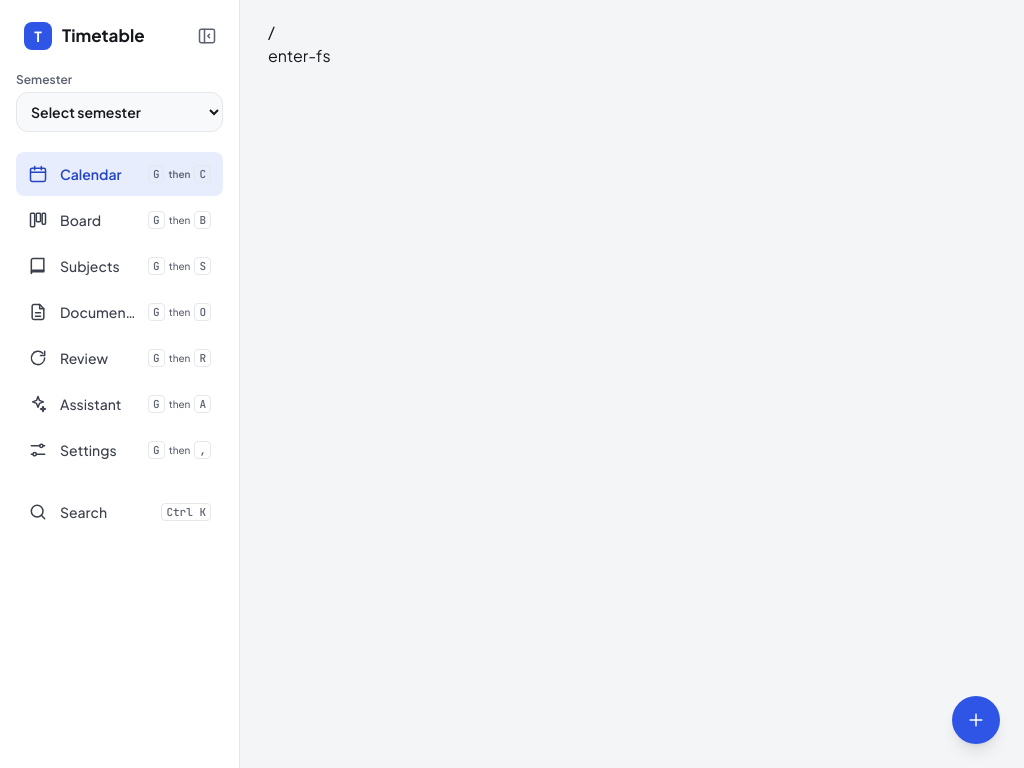
Test: Layout shortcuts › the sidebar stays in place while the page scrolls and its toggle sits at the top
Click the button named "Collapse sidebar".
click(207, 36)  # box x1=191 y1=20 x2=223 y2=52
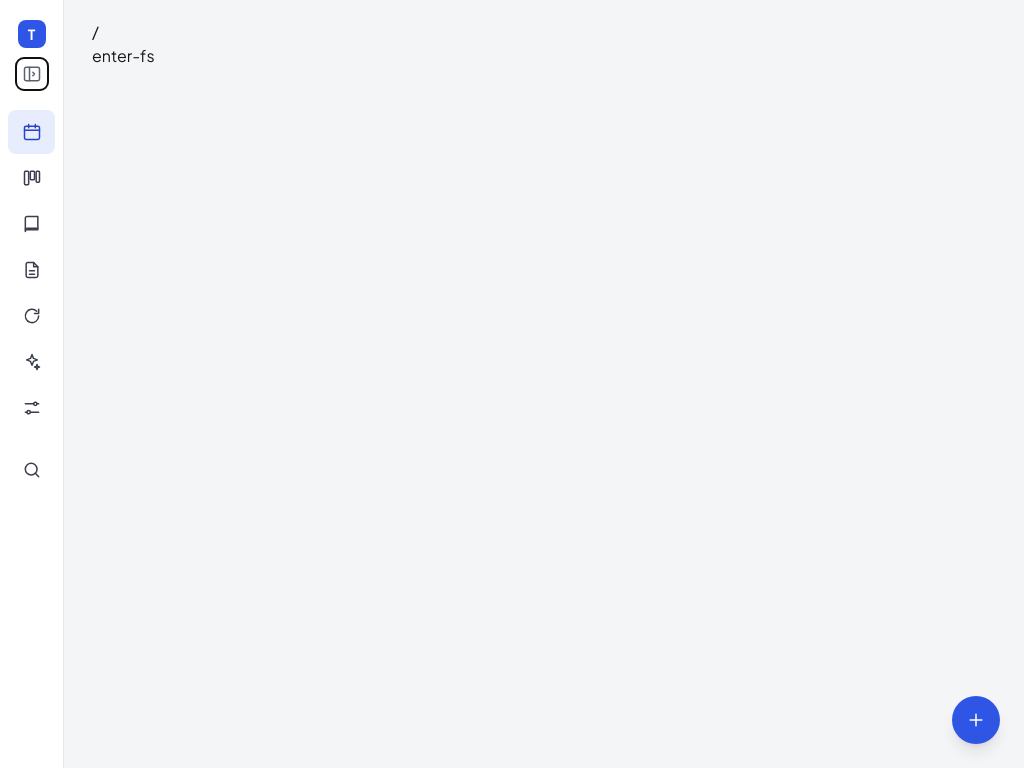
Check: the button named "Expand sidebar" is shown, box x1=16 y1=58 x2=48 y2=90
